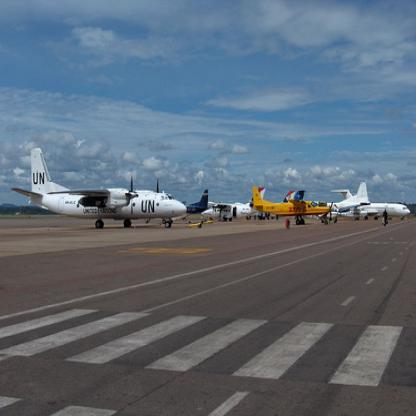aeroplane: (10, 146, 188, 230), (248, 184, 334, 226), (330, 182, 411, 222), (201, 186, 266, 224), (328, 181, 369, 218), (186, 189, 210, 214)
